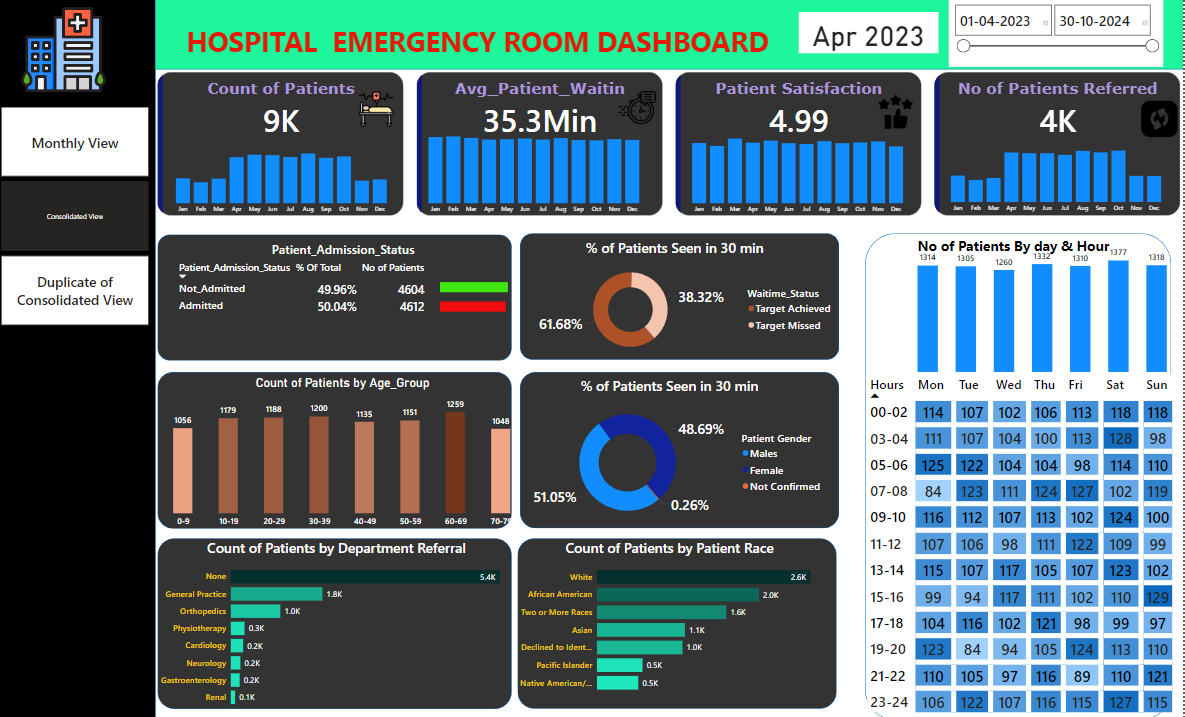

This screenshot's page, from the dashboard's own definition file:
{"tool":"powerbi","page":{"name":"Consolidated View","canvas":[2300,1400],"ordinal":1},"visuals":[{"type":"shape","box":[0,0,310.7,1400.5],"z":0},{"type":"shape","box":[310,0,1990,140],"z":1000},{"type":"slicer","fields":{"Values":["Date.Date"]},"box":[1845,5,415,130],"z":2000},{"type":"cardVisual","fields":{"Data":["Date.Count of Patients","Date.Avg_Patient_Waitin","Date.Patient Satisfaction","Date.No of Patients Referred"]},"box":[310.7,140.5,1989.8,288.5],"z":3000},{"type":"card","fields":{"Values":["Min(Date.Month & Year)"]},"box":[1555,30,270,80],"z":4000},{"type":"columnChart","fields":{"Y":["Date.Count of Patients"],"Category":["Date.Month"]},"box":[330.4,244.1,446.3,184.9],"z":5000},{"type":"columnChart","fields":{"Y":["Avg(Hospital ER_Data.Patient Waittime)"],"Category":["Date.Month"]},"box":[821.1,244.1,446.3,184.9],"z":6000},{"type":"columnChart","fields":{"Y":["Date.Patient Satisfaction"],"Category":["Date.Month"]},"box":[1331.5,244.1,446.3,184.9],"z":7000},{"type":"columnChart","fields":{"Y":["Date.No of Patients Referred"],"Category":["Date.Month"]},"box":[1830,240,445,187.5],"z":8000},{"type":"shape","box":[315.6,458.6,685.5,244.1],"z":9000},{"type":"pivotTable","title":"Patient_Admission_Status","fields":{"Rows":["Hospital ER_Data.Patient_Admission_Status"],"Values":["Divide(Date.Count of Patients, ScopedEval(Date.Count of Patients, []))","Date.Count of Patients"]},"box":[345.2,470.9,655.9,214.5],"z":10000},{"type":"barChart","fields":{"Category":["Hospital ER_Data.Patient_Admission_Status"],"Y":["Date.No of Patients Referred"]},"box":[855.6,520.3,145.5,115.9],"z":11000},{"type":"shape","box":[315.6,724.9,685.5,303.3],"z":12000},{"type":"shape","box":[315.6,1047.9,685.5,330.4],"z":13000},{"type":"clusteredBarChart","fields":{"Category":["Hospital ER_Data.Department Referral"],"Y":["Date.Count of Patients"]},"box":[315,1047.5,692.5,340],"z":14000},{"type":"columnChart","fields":{"Category":["Hospital ER_Data.Age_Group"],"Y":["Date.Count of Patients"]},"box":[304.8,732.9,735.3,302.4],"z":15000},{"type":"shape","box":[1015,457.5,617.5,245],"z":16000},{"type":"donutChart","title":"% of Patients Seen in 30 min","fields":{"Category":["Hospital ER_Data.Waitime_Status"],"Y":["Date.Count of Patients"]},"box":[1000,467.5,632.5,235],"z":17000},{"type":"shape","box":[1015,725,617.5,302.5],"z":18000},{"type":"donutChart","title":"% of Patients Seen in 30 min","fields":{"Y":["Date.Count of Patients"],"Category":["Hospital ER_Data.Patient Gender"]},"box":[1000,732.5,612.5,295],"z":19000},{"type":"shape","box":[1010,1047.5,617.5,330],"z":20000},{"type":"clusteredBarChart","fields":{"Y":["Date.Count of Patients"],"Category":["Hospital ER_Data.Patient Race"]},"box":[1000,1047.5,612.5,312.5],"z":21000},{"type":"shape","box":[1682.5,457.5,592.5,942.5],"z":22000},{"type":"pivotTable","fields":{"Rows":["Hospital ER_Data.Wait_Time_interval"],"Columns":["Date.Day_Name"],"Values":["Date.Count of Patients"]},"box":[1682.5,725,617.5,675],"z":23000},{"type":"columnChart","fields":{"Category":["Date.Day_Name"],"Y":["Date.Count of Patients"]},"box":[1780,470,495,262.5],"z":24000},{"type":"textbox","box":[1780,457.5,392.5,50],"z":25000},{"type":"pageNavigator","box":[12.5,212.5,285,422.5],"z":26000},{"type":"image","box":[700,177.5,77.5,80],"z":27000},{"type":"image","box":[35,10,197.5,185],"z":28000},{"type":"image","box":[1200,167.5,85,95],"z":29000},{"type":"image","box":[1705,185,75,77.5],"z":30000},{"type":"image","box":[2205,195,95,80],"z":31000},{"type":"textbox","box":[365,42.5,1207.5,92.5],"z":32000}]}

Visuals, with their boxes in screenshot pixels (x1, y1, x2, y2), scaled from the page's 2300x1400 canvas onto the 1185x717 screenshot:
shape: BBox(0, 0, 160, 716)
shape: BBox(160, 0, 1184, 72)
slicer - Date.Date: BBox(951, 3, 1164, 69)
cardVisual - Date.Count of Patients x Date.Avg_Patient_Waitin: BBox(160, 72, 1184, 220)
card - Min(Date.Month & Year): BBox(801, 15, 940, 56)
columnChart - Date.Count of Patients x Date.Month: BBox(170, 125, 400, 220)
columnChart - Avg(Hospital ER_Data.Patient Waittime) x Date.Month: BBox(423, 125, 653, 220)
columnChart - Date.Patient Satisfaction x Date.Month: BBox(686, 125, 916, 220)
columnChart - Date.No of Patients Referred x Date.Month: BBox(943, 123, 1172, 219)
shape: BBox(163, 235, 516, 360)
"Patient_Admission_Status" pivotTable: BBox(178, 241, 516, 351)
barChart - Hospital ER_Data.Patient_Admission_Status x Date.No of Patients Referred: BBox(441, 266, 516, 326)
shape: BBox(163, 371, 516, 527)
shape: BBox(163, 537, 516, 706)
clusteredBarChart - Hospital ER_Data.Department Referral x Date.Count of Patients: BBox(162, 536, 519, 711)
columnChart - Hospital ER_Data.Age_Group x Date.Count of Patients: BBox(157, 375, 536, 530)
shape: BBox(523, 234, 841, 360)
"% of Patients Seen in 30 min" donutChart: BBox(515, 239, 841, 360)
shape: BBox(523, 371, 841, 526)
"% of Patients Seen in 30 min" donutChart: BBox(515, 375, 831, 526)
shape: BBox(520, 536, 839, 705)
clusteredBarChart - Date.Count of Patients x Hospital ER_Data.Patient Race: BBox(515, 536, 831, 697)
shape: BBox(867, 234, 1172, 716)
pivotTable - Hospital ER_Data.Wait_Time_interval x Date.Day_Name: BBox(867, 371, 1184, 716)
columnChart - Date.Day_Name x Date.Count of Patients: BBox(917, 241, 1172, 375)
textbox: BBox(917, 234, 1119, 260)
pageNavigator: BBox(6, 109, 153, 325)
image: BBox(361, 91, 401, 132)
image: BBox(18, 5, 120, 100)
image: BBox(618, 86, 662, 134)
image: BBox(878, 95, 917, 134)
image: BBox(1136, 100, 1184, 141)
textbox: BBox(188, 22, 810, 69)
